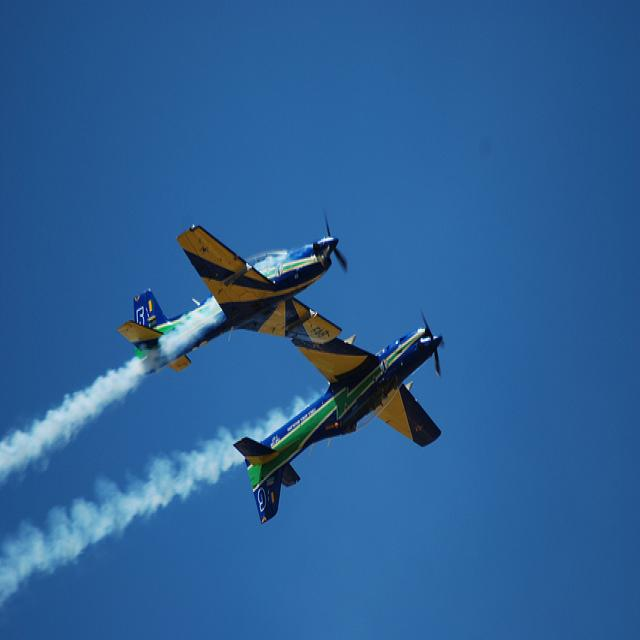airplane: (236, 315, 442, 523), (120, 210, 349, 377)
